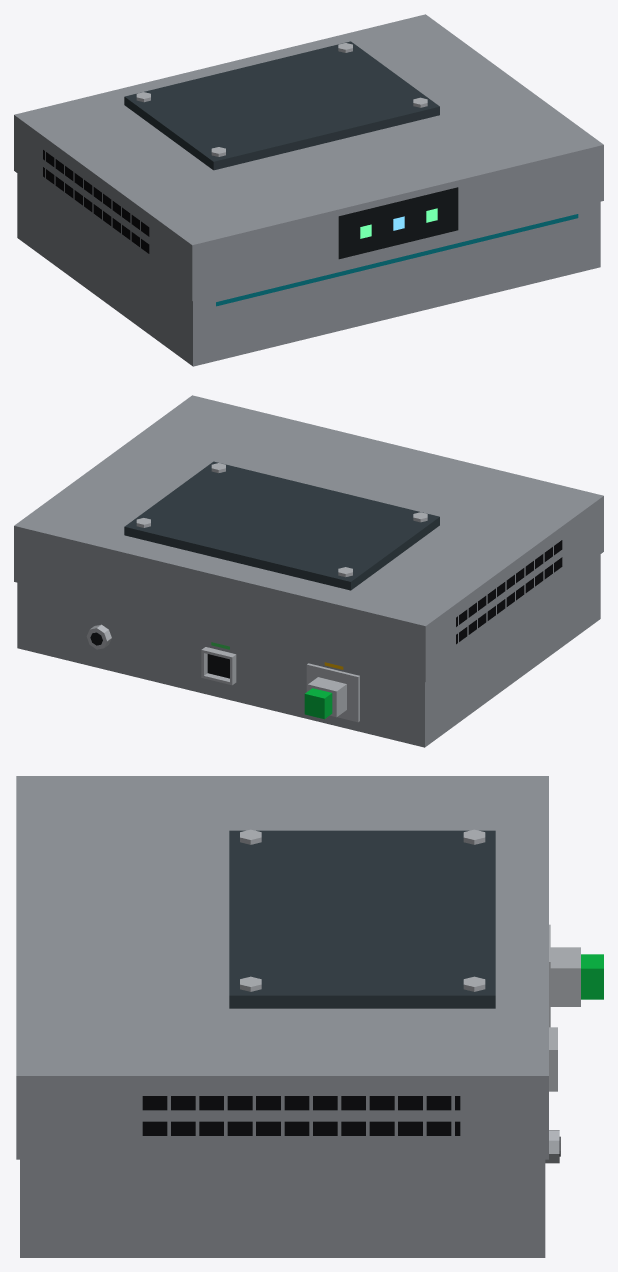
The model's file is ISP_FiberGateway.glb.
3 views of the same model, one above another, from view 1: azimuth 30°, elevation 25°; view 2: azimuth 150°, elevation 25°; view 3: azimuth 270°, elevation 25° (orthographic). The views are drawn at different scales.
Parts seen in each view (by area): view 1: ISP_FiberGateway; view 2: ISP_FiberGateway; view 3: ISP_FiberGateway.
Boxes of the visible parts, left/top/right/bottom form: ISP_FiberGateway: left=14, top=14, right=603, bottom=366; ISP_FiberGateway: left=14, top=395, right=603, bottom=747; ISP_FiberGateway: left=16, top=776, right=603, bottom=1257.
Bounding box in the file's own units: 0.2006 × 0.0655 × 0.1662.
7 materials, 1 textured.
